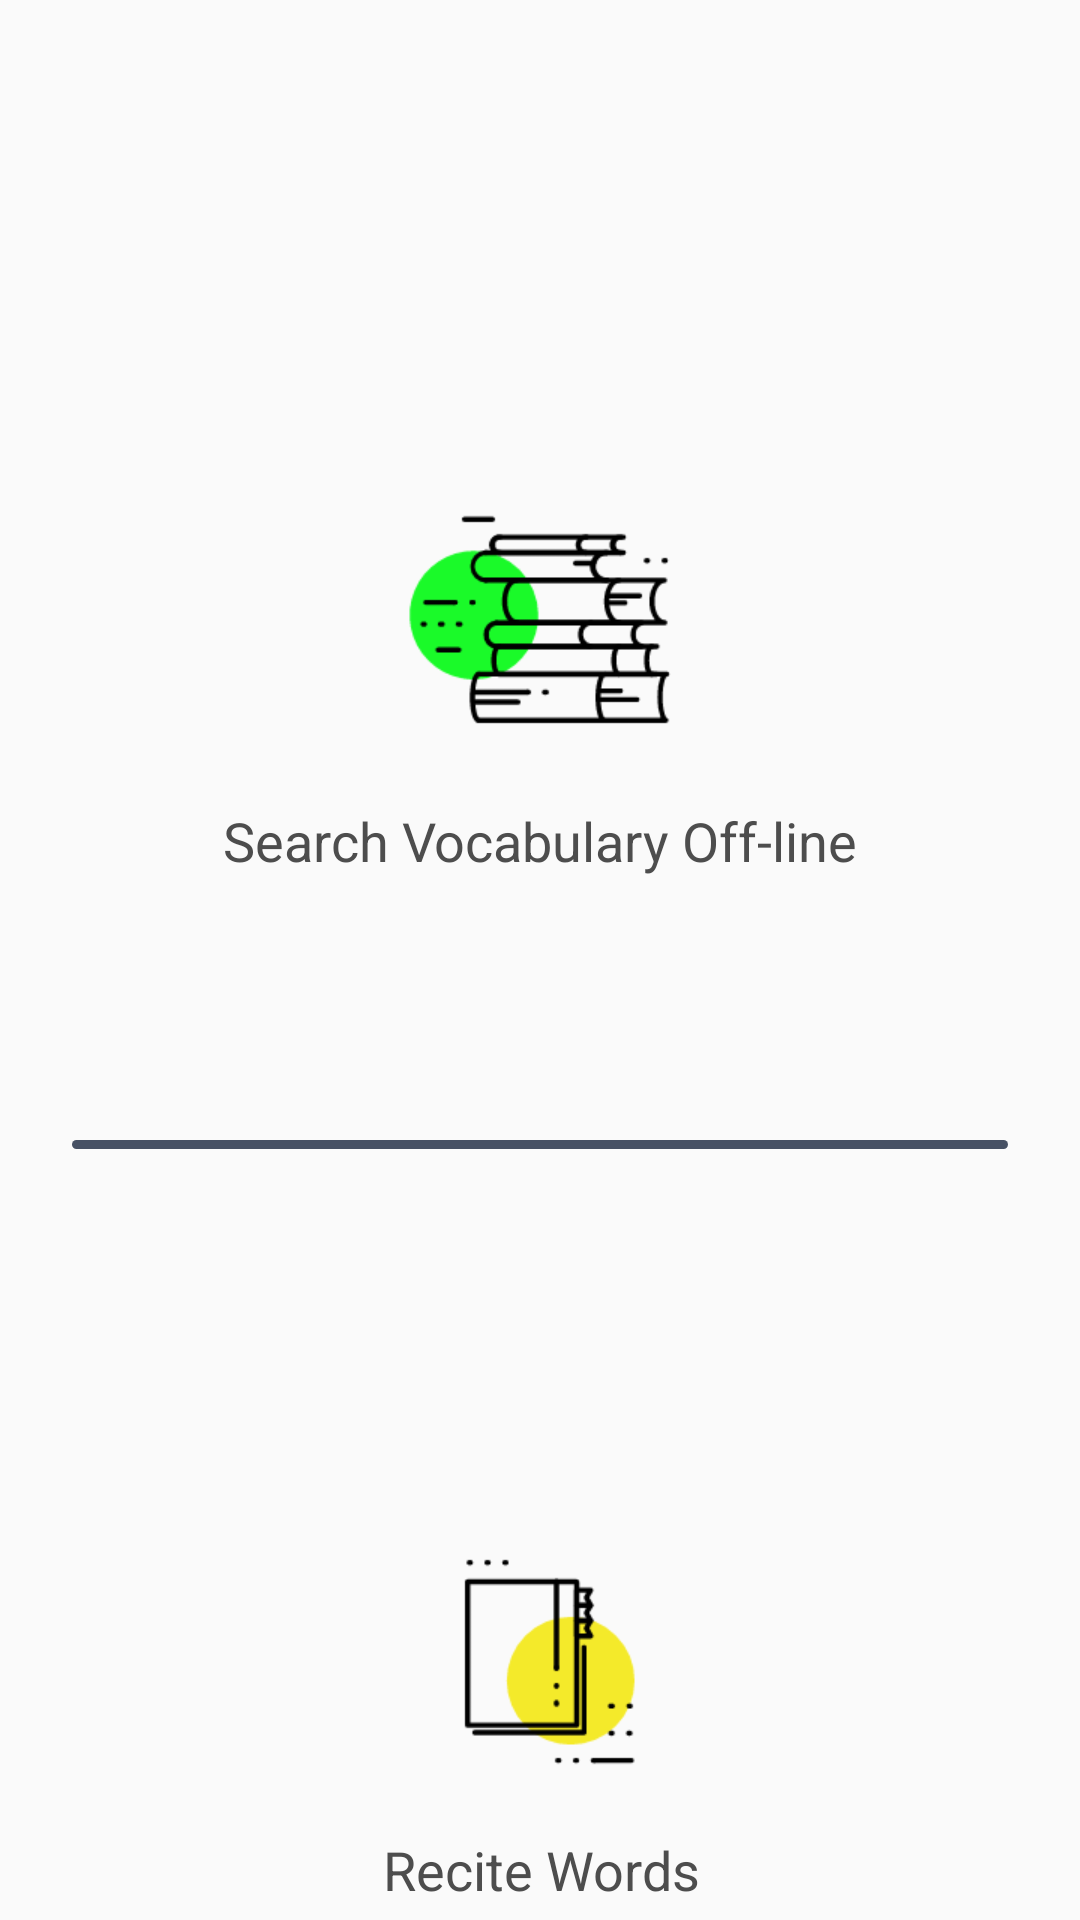

Where to tap for icons on this 1080x1920 app screen, as [x,y]:
book: [539,620]
note: [549,1661]
